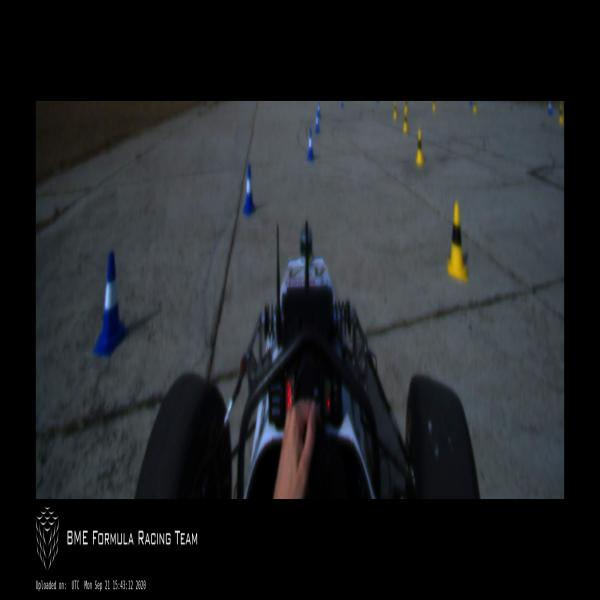blue_cone: (93, 253, 128, 359), (243, 166, 256, 218), (306, 128, 314, 163), (314, 111, 320, 134), (548, 102, 552, 115), (318, 101, 320, 118)
yellow_cone: (447, 201, 467, 282), (416, 128, 424, 166), (403, 109, 408, 133), (558, 102, 563, 126), (393, 101, 397, 121), (431, 101, 436, 112), (473, 101, 477, 113), (404, 101, 408, 112)
